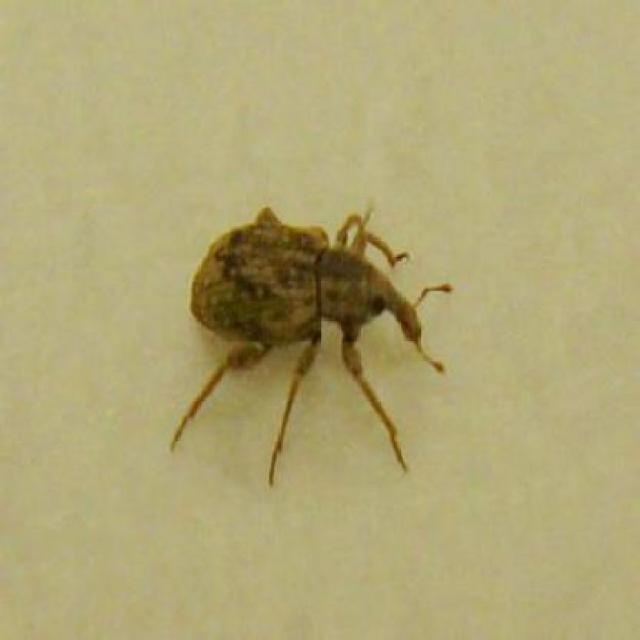rice-bug: (184, 202, 436, 422)
